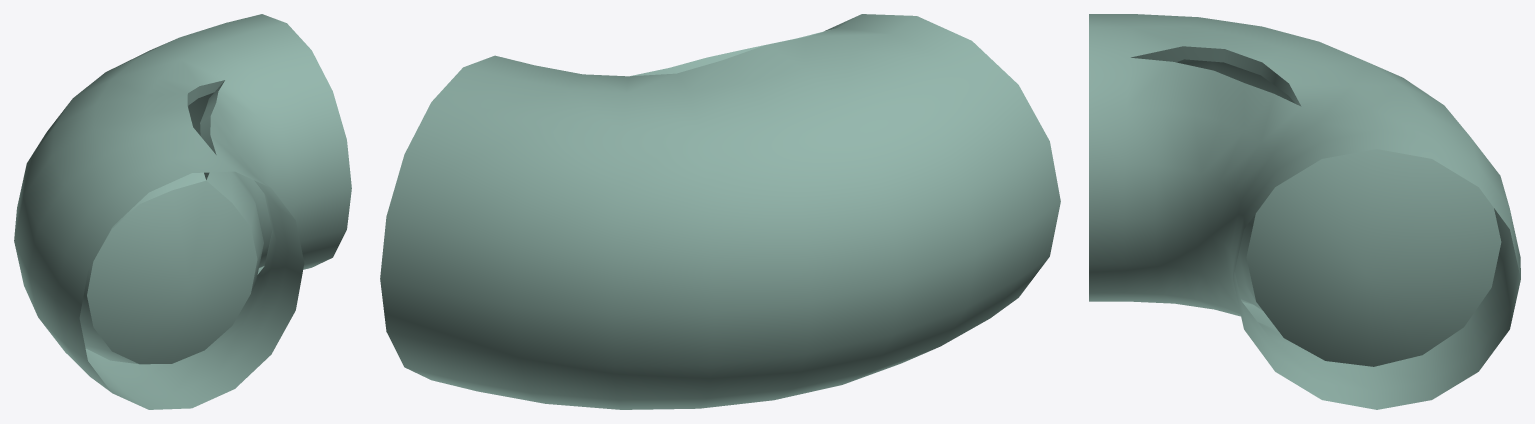
Rendered from PipeLarge_BrokenBent_01.fbx.
3 renders of one model, left to right at view 1: azimuth 30°, elevation 25°; view 2: azimuth 150°, elevation 25°; view 3: azimuth 270°, elevation 25°, orthographic. The views are drawn at different scales.
Parts seen in each view (by area): view 1: PipeLarge_BrokenBent_01.001; view 2: PipeLarge_BrokenBent_01.001; view 3: PipeLarge_BrokenBent_01.001.
Boxes of the visible parts, x1,y1,x2,y2 form: PipeLarge_BrokenBent_01.001: (14, 14, 351, 409); PipeLarge_BrokenBent_01.001: (380, 14, 1060, 409); PipeLarge_BrokenBent_01.001: (1089, 14, 1520, 409).
Size of the model in its own units: 0.3 by 0.207 by 0.3.
